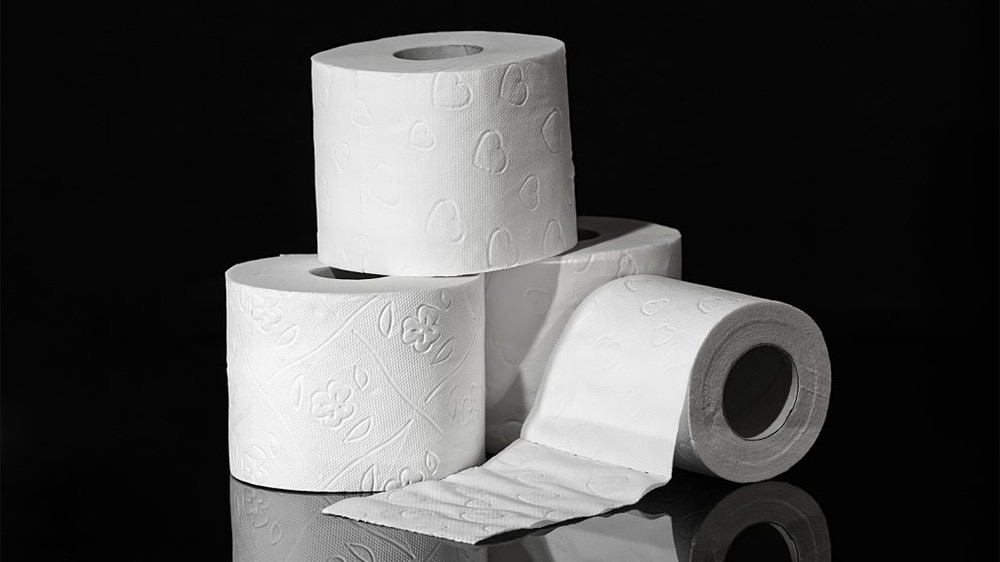paper: (224, 29, 833, 548)
